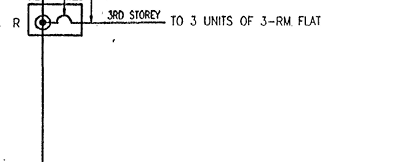Single Phase Tap-Off Unit: (24, 2, 88, 38)
